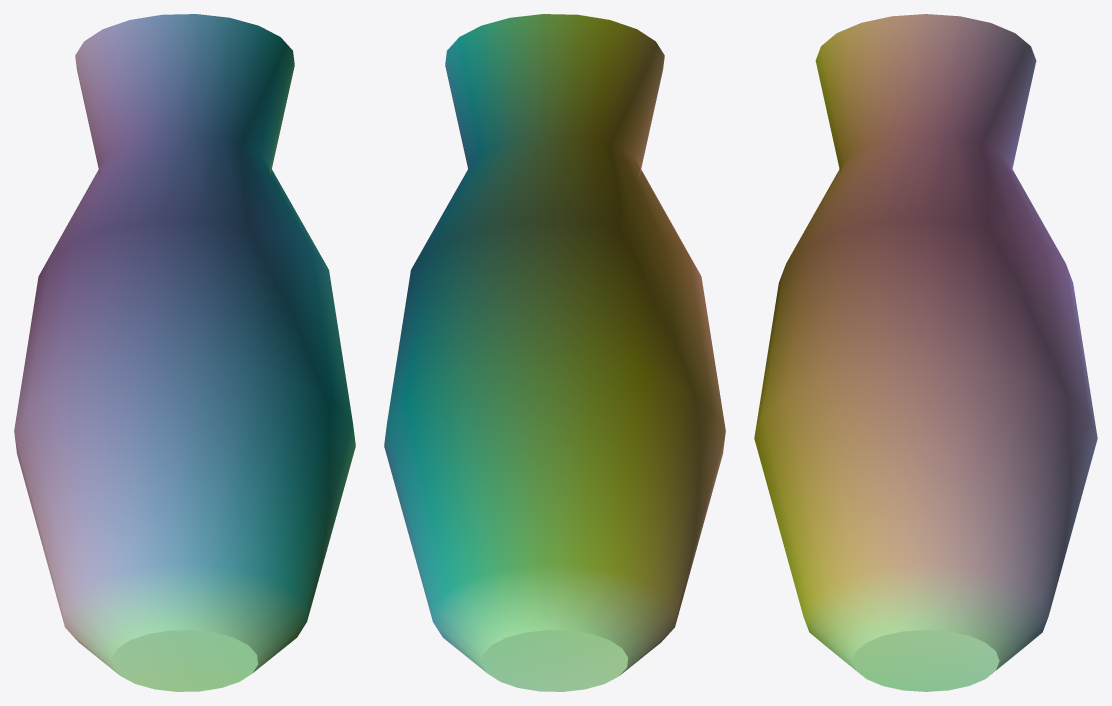
Rendered from vase.glb.
3 views of the same model, side by side, from view 1: azimuth 30°, elevation 25°; view 2: azimuth 150°, elevation 25°; view 3: azimuth 270°, elevation 25° (orthographic).
Parts seen in each view (by area): view 1: parlour_vase; view 2: parlour_vase; view 3: parlour_vase.
Part boxes in pixels (x1=…): parlour_vase: x1=14, y1=14, x2=355, y2=691; parlour_vase: x1=384, y1=14, x2=725, y2=691; parlour_vase: x1=754, y1=14, x2=1097, y2=691.
Size of the model in its own units: 0.28 by 0.54 by 0.28.
